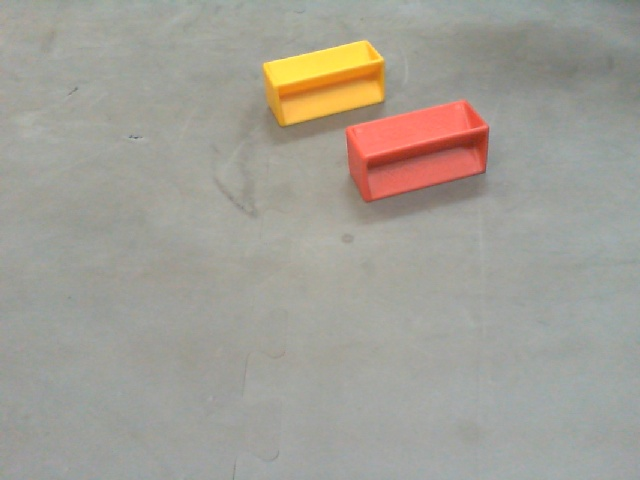RedSample: (343, 97, 495, 202)
YellowSample: (259, 40, 386, 128)
